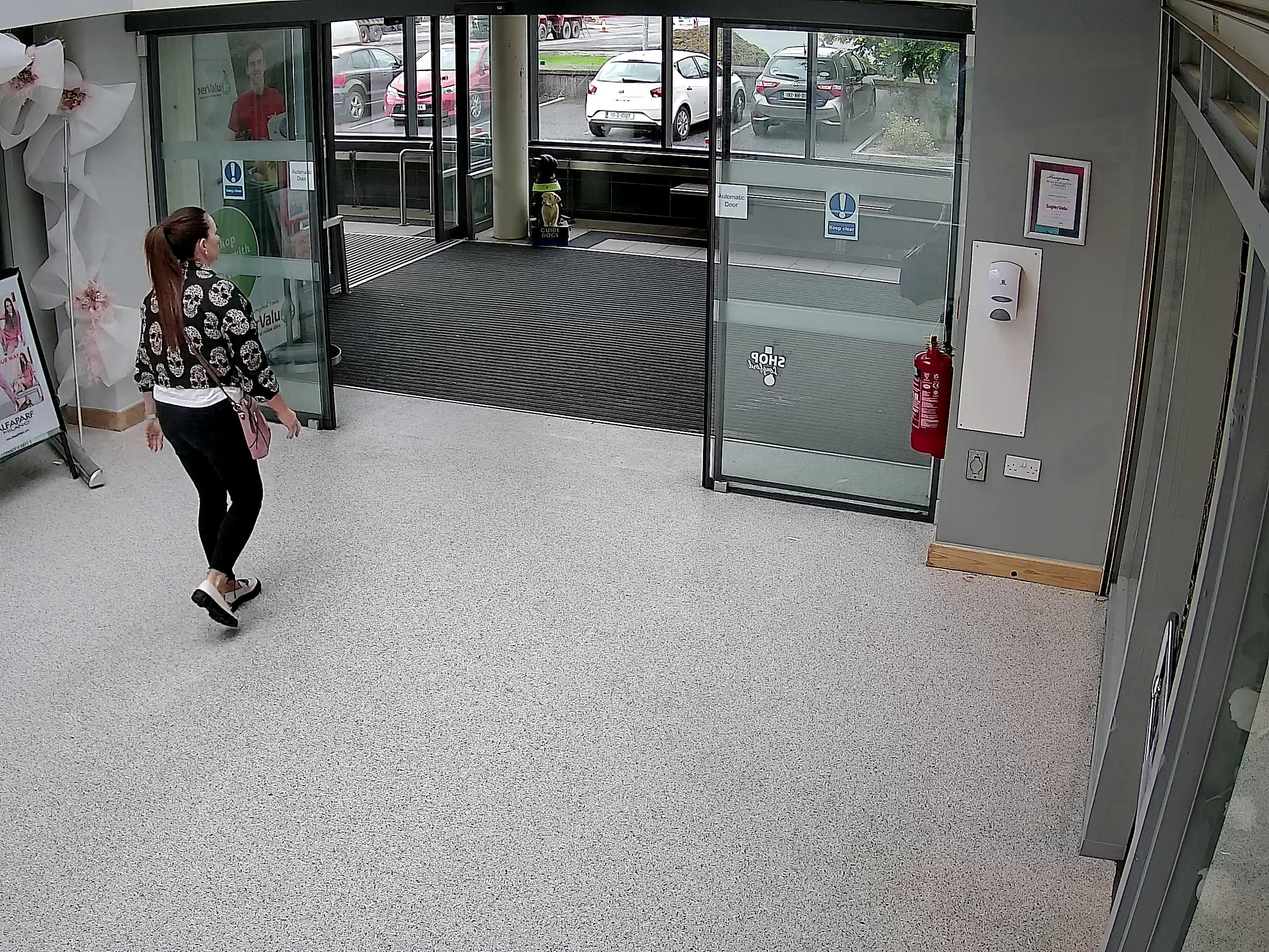backpack-or-handbag: (233, 391, 272, 461)
person: (134, 206, 301, 626)
person-with-backpack-handbag: (135, 204, 301, 628)
